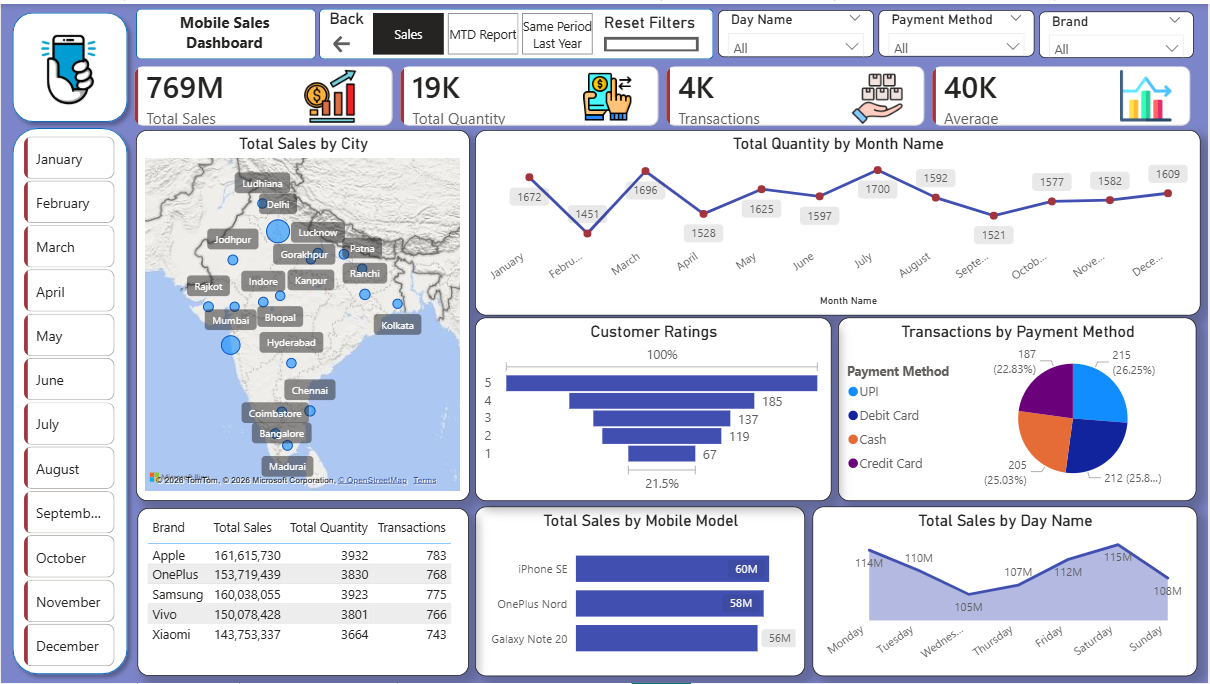

What the dashboard file says about the page in this screenshot:
{"tool":"powerbi","page":{"name":"Sales","canvas":[1280,720],"ordinal":0},"visuals":[{"type":"shape","box":[337.2,4.8,418.3,54.1],"z":0},{"type":"shape","box":[3.8,0,139.8,134.2],"z":1000},{"type":"image","box":[0,20.8,143.6,96.4],"z":2000},{"type":"shape","box":[3.8,122.8,139.8,597.2],"z":3000},{"type":"advancedSlicerVisual","fields":{"Values":["Calendar.Month Name"]},"box":[19.1,135.2,106.6,577.4],"z":4000},{"type":"map","fields":{"Category":["Sheet1.City"],"Size":["Sheet1.Total Sales"]},"box":[142.8,133.5,354.2,393.1],"z":5000},{"type":"lineChart","fields":{"Y":["Sheet1.Total Quantity"],"Category":["Calendar.Month Name"]},"box":[502.5,133.5,769.5,196.5],"z":6000},{"type":"clusteredBarChart","fields":{"Category":["Sheet1.Mobile Model"],"Y":["Sheet1.Total Sales"]},"box":[502.5,532.2,350,179.9],"z":7000},{"type":"pieChart","fields":{"Category":["Sheet1.Payment Method"],"Y":["Sheet1.Transactions"]},"box":[888.2,331.9,380.1,194.7],"z":8000},{"type":"funnel","title":"Customer Ratings","fields":{"Category":["Sheet1.Customer Ratings"],"Y":["CountNonNull(Sheet1.Customer Ratings)"]},"box":[502.5,331.9,378,194.7],"z":9000},{"type":"areaChart","fields":{"Y":["Sheet1.Total Sales"],"Category":["Sheet1.Day Name"]},"box":[860.3,532.2,407.9,179.9],"z":10000},{"type":"tableEx","fields":{"Values":["Sheet1.Brand","Sheet1.Total Sales","Sheet1.Total Quantity","Sheet1.Transactions"]},"box":[144.7,534.4,351.5,178.1],"z":11000},{"type":"slicer","fields":{"Values":["Sheet1.Day Name"]},"box":[760.3,6.4,165,50],"z":12000},{"type":"shape","box":[143.2,4.8,190.9,54.1],"z":13000},{"type":"slicer","fields":{"Values":["Sheet1.Payment Method"]},"box":[930.5,6.4,165.4,49.3],"z":14000},{"type":"slicer","fields":{"Values":["Sheet1.Brand"]},"box":[1100.7,8,163.8,49.3],"z":15000},{"type":"textbox","box":[165.4,3.2,143.2,58.9],"z":16000},{"type":"cardVisual","fields":{"Data":["Sheet1.Total Sales","Sheet1.Total Quantity","Sheet1.Transactions","Sheet1.Average"]},"box":[123.6,54.1,1156.4,103.4],"z":17000},{"type":"image","box":[320.8,57.5,55.6,81.6],"z":18000},{"type":"image","box":[1187,56.6,54.7,80],"z":19000},{"type":"image","box":[901.9,60.5,54.7,80],"z":20000},{"type":"image","box":[615,56.6,54.7,82],"z":21000},{"type":"pageNavigator","box":[394.5,9.5,233.8,44.5],"z":22000},{"type":"actionButton","title":"Back","box":[348.3,4.8,42.9,50.9],"z":23000},{"type":"actionButton","title":"Reset Filters","box":[639.4,9.7,100.4,40.6],"z":24000}]}

Visuals, with their boxes in screenshot pixels (x1, y1, x2, y2), scaled from the page's 1280x720 canvas onto the 1210x684 screenshot:
shape: detection(319, 5, 714, 56)
shape: detection(4, 0, 136, 127)
image: detection(0, 20, 136, 111)
shape: detection(4, 117, 136, 683)
advancedSlicerVisual - Calendar.Month Name: detection(18, 128, 119, 677)
map - Sheet1.City x Sheet1.Total Sales: detection(135, 127, 470, 500)
lineChart - Sheet1.Total Quantity x Calendar.Month Name: detection(475, 127, 1202, 314)
clusteredBarChart - Sheet1.Mobile Model x Sheet1.Total Sales: detection(475, 506, 806, 676)
pieChart - Sheet1.Payment Method x Sheet1.Transactions: detection(840, 315, 1199, 500)
"Customer Ratings" funnel: detection(475, 315, 832, 500)
areaChart - Sheet1.Total Sales x Sheet1.Day Name: detection(813, 506, 1199, 676)
tableEx - Sheet1.Brand x Sheet1.Total Sales: detection(137, 508, 469, 677)
slicer - Sheet1.Day Name: detection(719, 6, 875, 54)
shape: detection(135, 5, 316, 56)
slicer - Sheet1.Payment Method: detection(880, 6, 1036, 53)
slicer - Sheet1.Brand: detection(1041, 8, 1195, 54)
textbox: detection(156, 3, 292, 59)
cardVisual - Sheet1.Total Sales x Sheet1.Total Quantity: detection(117, 51, 1209, 150)
image: detection(303, 55, 356, 132)
image: detection(1122, 54, 1174, 130)
image: detection(853, 57, 904, 133)
image: detection(581, 54, 633, 132)
pageNavigator: detection(373, 9, 594, 51)
"Back" actionButton: detection(329, 5, 370, 53)
"Reset Filters" actionButton: detection(604, 9, 699, 48)
